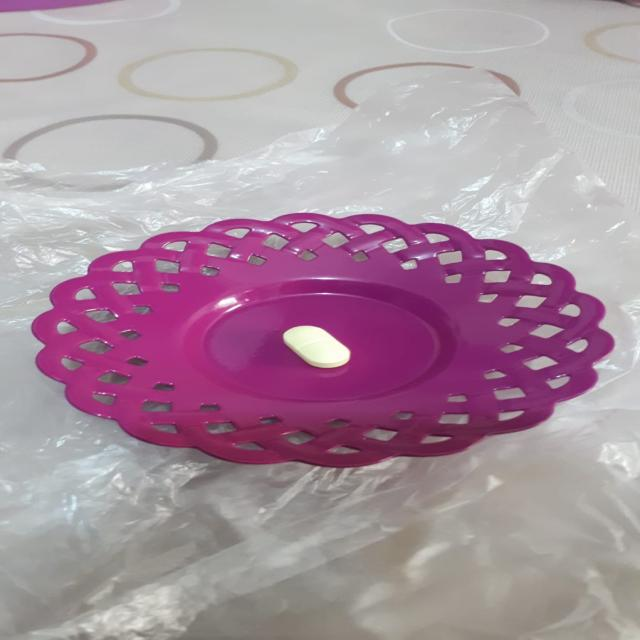pills: (266, 311, 360, 378)
